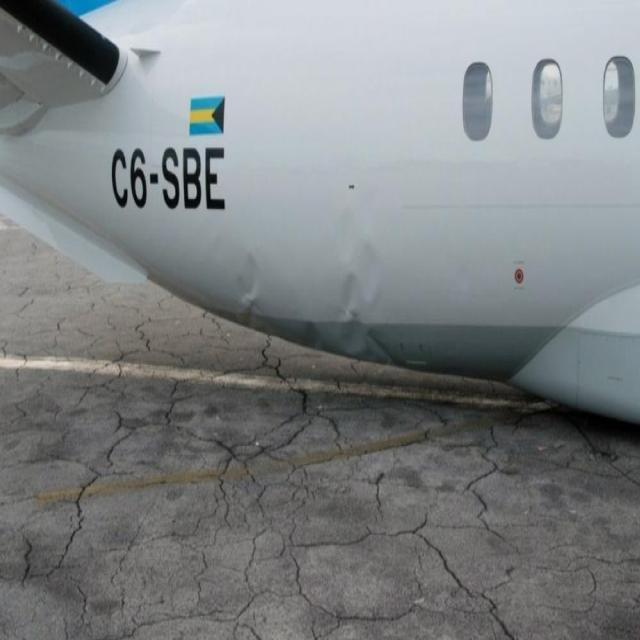dent: (335, 194, 389, 360), (231, 252, 269, 337)
